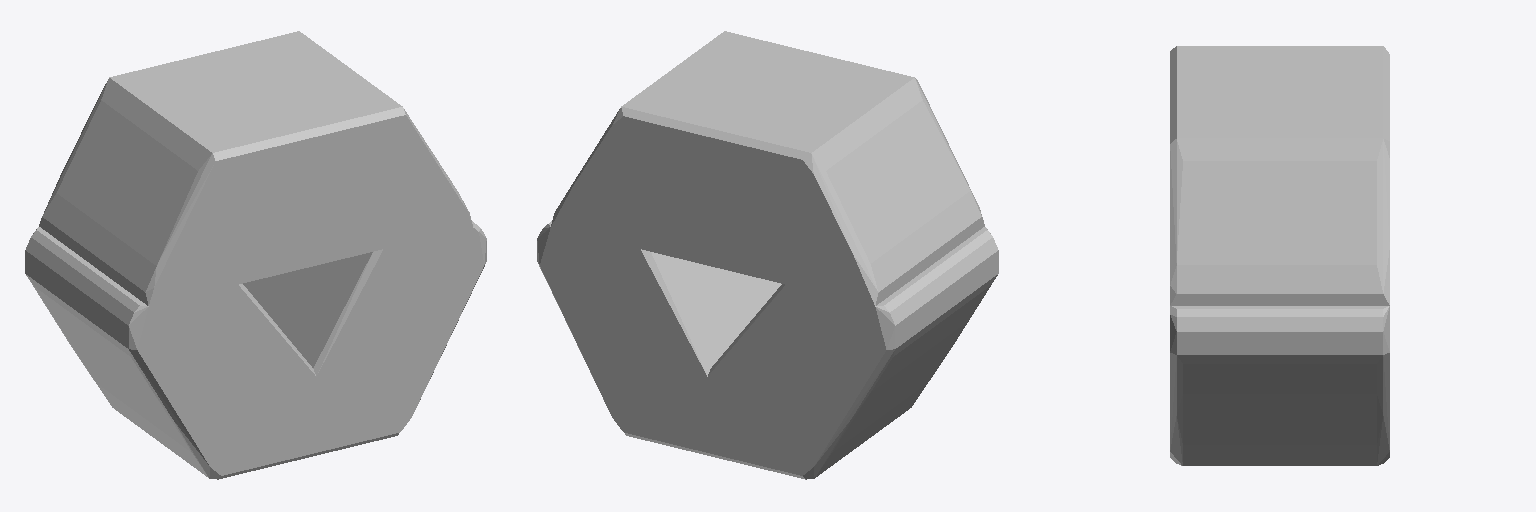
The model's file is Nut.obj.
3 views of the same model, side by side, from view 1: azimuth 30°, elevation 25°; view 2: azimuth 150°, elevation 25°; view 3: azimuth 270°, elevation 25° (orthographic).
Visible parts, largest first — view 1: convex_0, convex_1, convex_2; view 2: convex_0, convex_1, convex_2; view 3: convex_0, convex_2.
Boxes of the visible parts, x1,y1,x2,y2 form: convex_0: [39, 31, 472, 305]; convex_1: [25, 227, 316, 479]; convex_2: [243, 221, 486, 455]; convex_0: [551, 31, 984, 305]; convex_1: [707, 227, 998, 479]; convex_2: [537, 221, 781, 455]; convex_0: [1170, 46, 1389, 305]; convex_2: [1170, 306, 1389, 465].
Bounding box in the file's own units: 36.84 × 32.24 × 19.57.